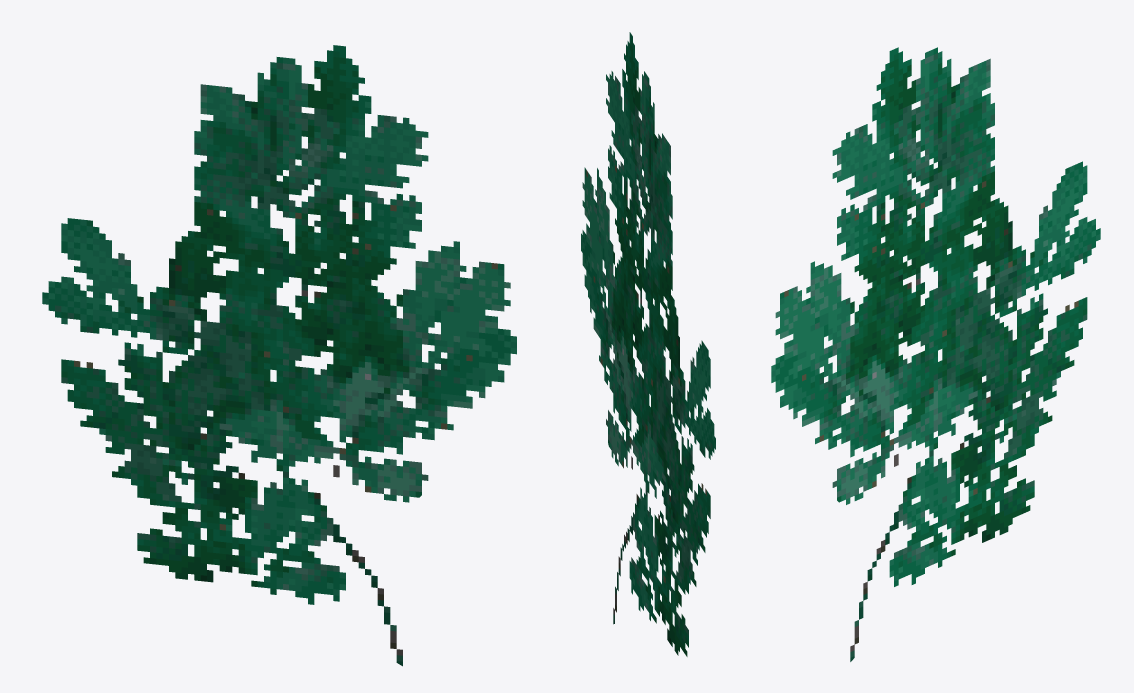
The model's file is Green Bush.glb.
The picture shows the model from 3 angles, left to right: view 1: azimuth 30°, elevation 25°; view 2: azimuth 150°, elevation 25°; view 3: azimuth 270°, elevation 25°; orthographic projection. The views are drawn at different scales.
Parts seen in each view (by area): view 1: Grass.002; view 2: Grass.002; view 3: Grass.002.
Part boxes in pixels (x1,y1,x2,y2): Grass.002: (42,45,516,666); Grass.002: (581,32,715,656); Grass.002: (771,47,1100,661).
Size of the model in its own units: 2.33 by 4.27 by 2.25.
1 material, 1 textured.
